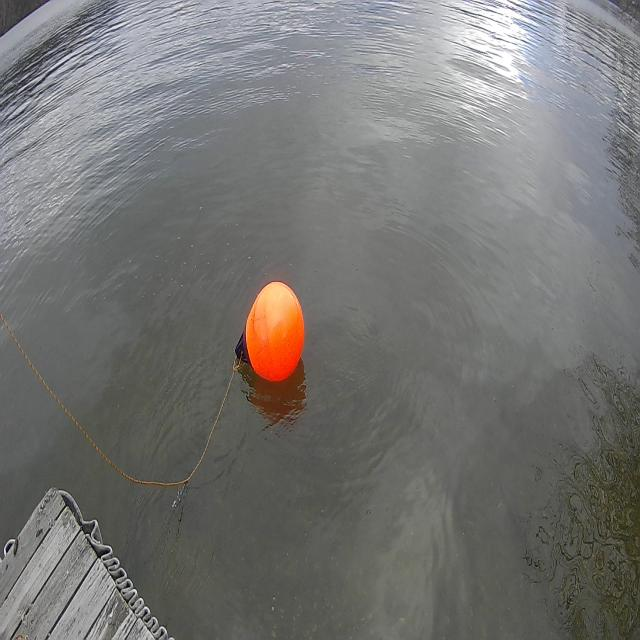Buoy: (230, 272, 308, 392)
